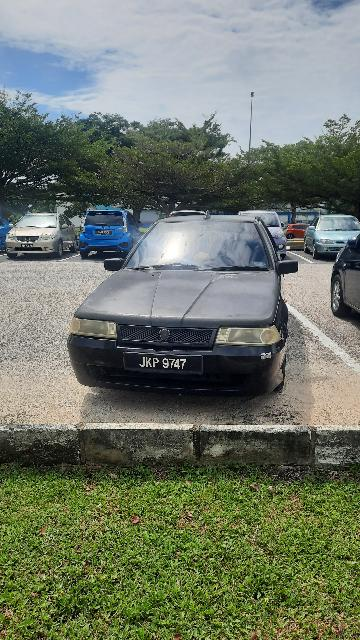License_Plate: (125, 352, 207, 381)
car: (64, 212, 297, 402)
